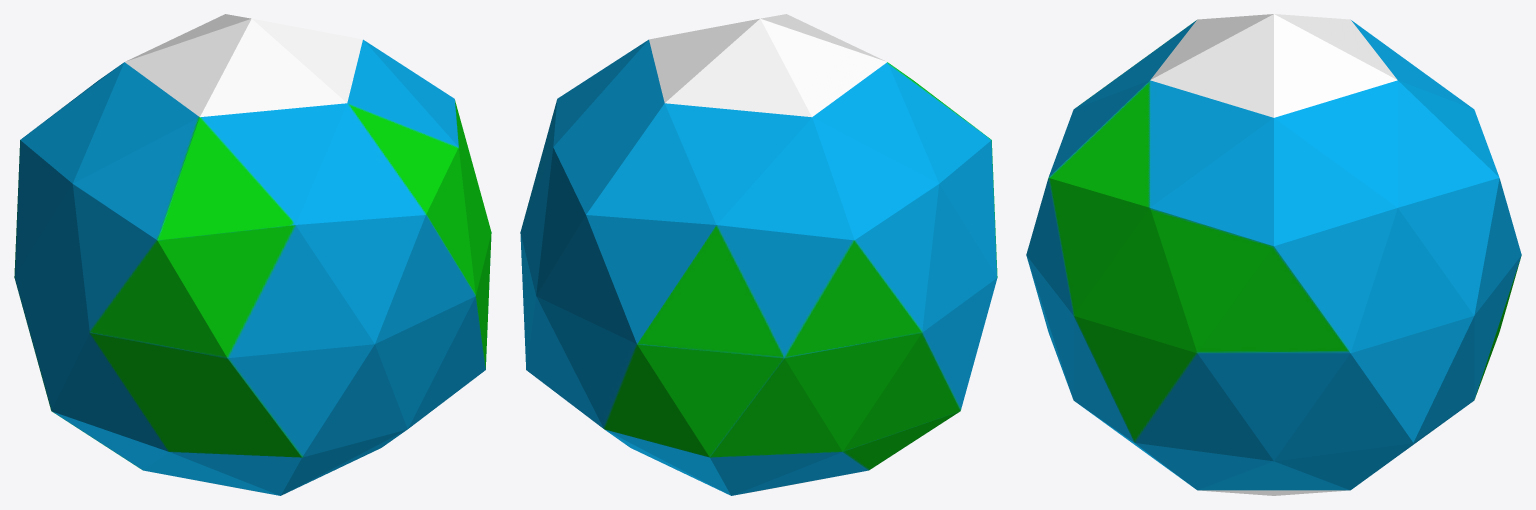
Rendered from earth.fbx.
3 renders of one model, left to right at view 1: azimuth 30°, elevation 25°; view 2: azimuth 150°, elevation 25°; view 3: azimuth 270°, elevation 25°, orthographic.
Visible parts, largest first — view 1: pSolid1; view 2: pSolid1; view 3: pSolid1.
Part boxes in pixels (x1,y1,x2,y2): pSolid1: (14,14,491,495); pSolid1: (520,14,997,495); pSolid1: (1026,14,1521,495).
Bounding box in the file's own units: 16.52 × 18.53 × 17.3.
